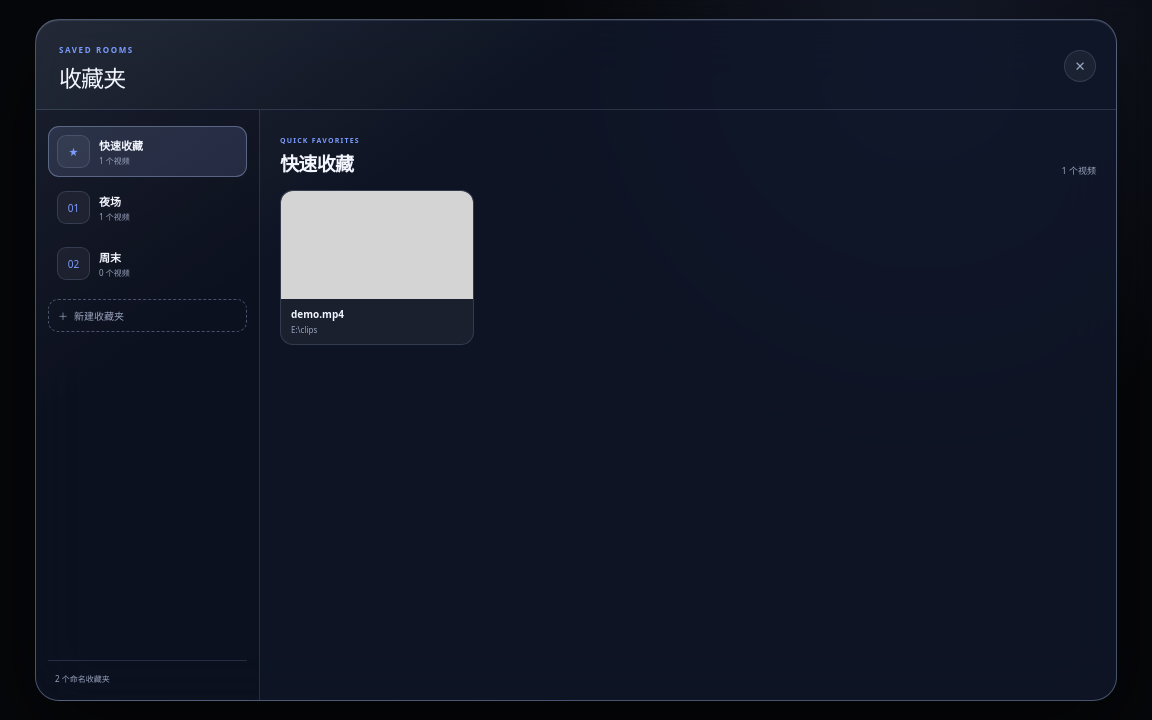
Test: 收藏夹页 › 新建收藏夹后自动切到新页
Click the button "＋ 新建收藏夹". click: click(148, 316)
box: [48,299,247,332]
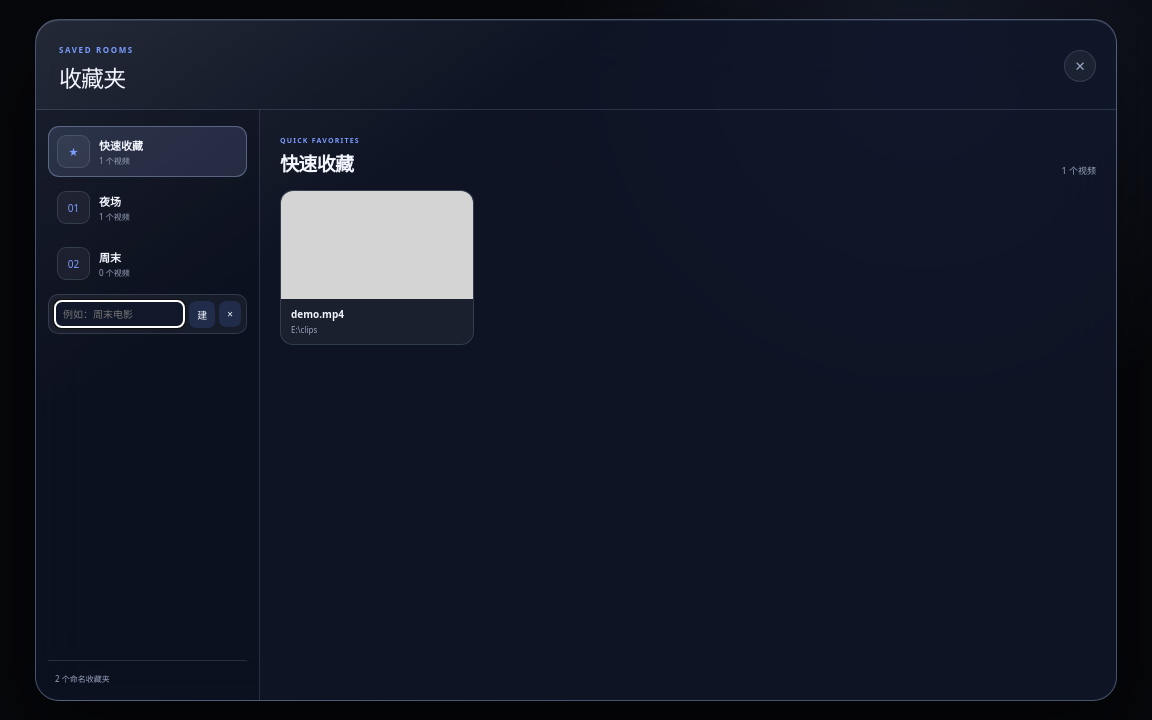
Type "旅行" into the field named "新收藏夹名称". click: (120, 314)
box: [54,300,185,328]
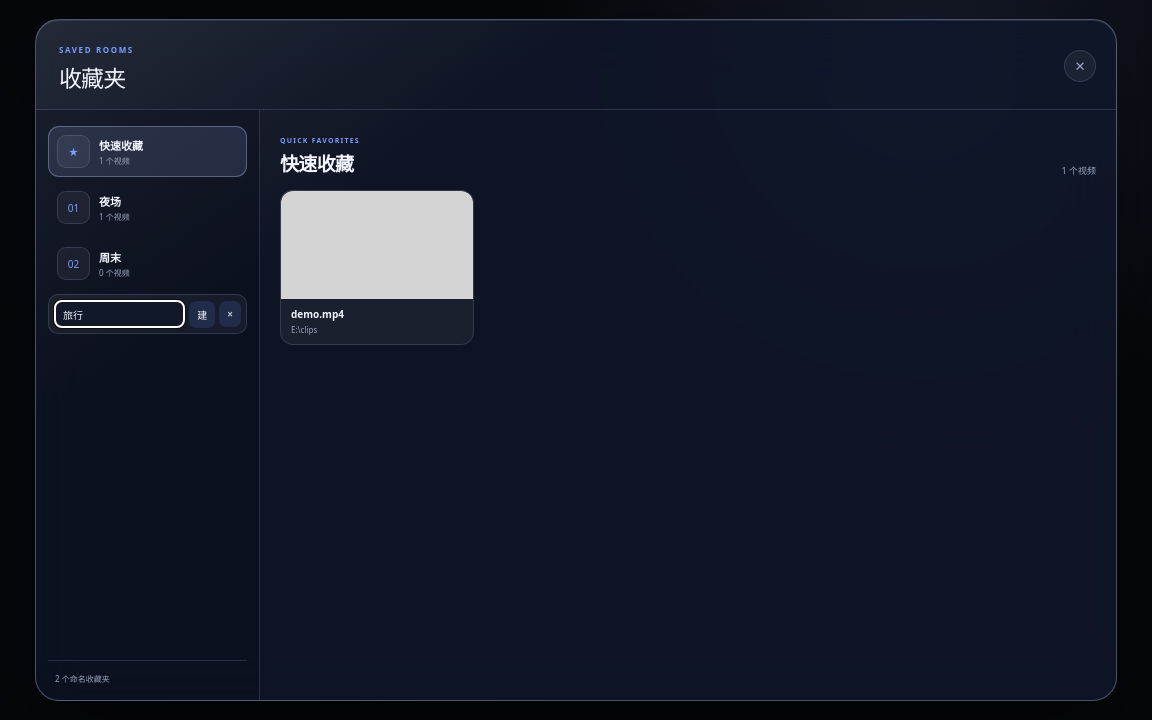
Click the button "建". click: click(202, 314)
box: [189,300,215,328]
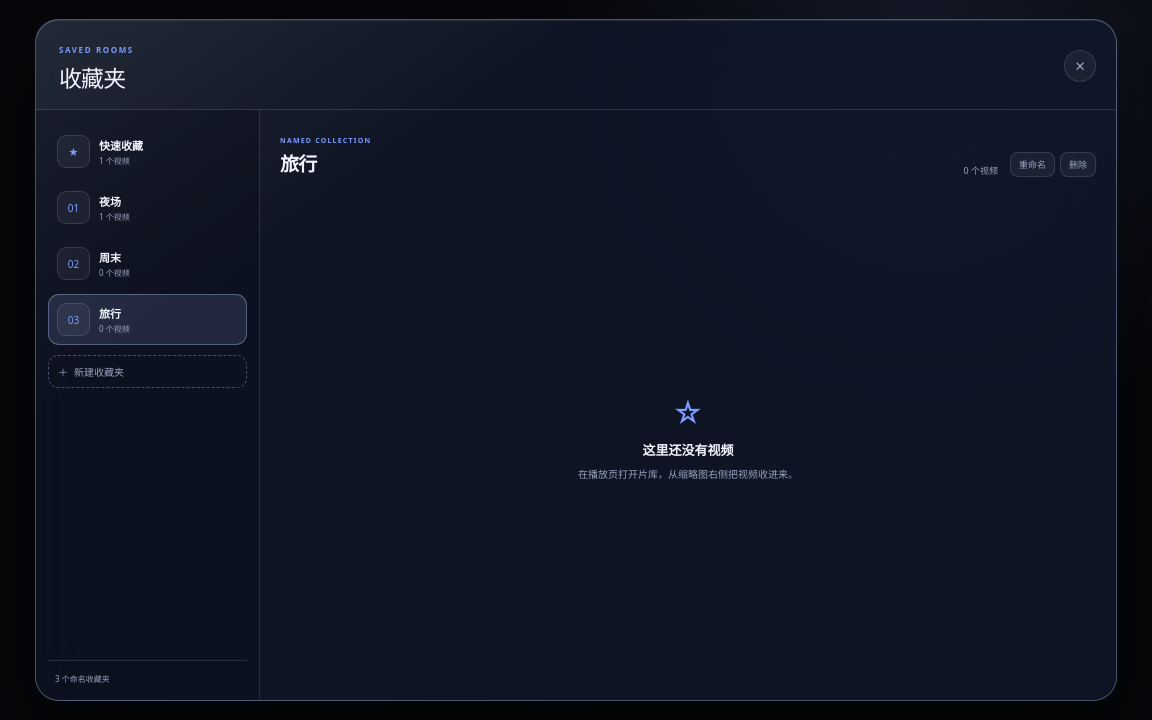
Result: the heading "旅行" is shown at [280,151,317,177]
